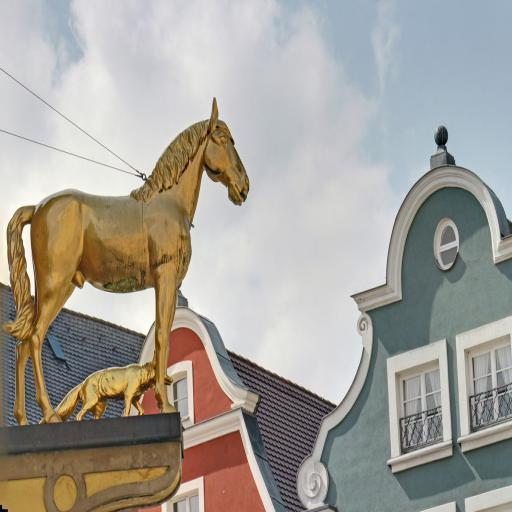horse: (0, 94, 250, 428)
